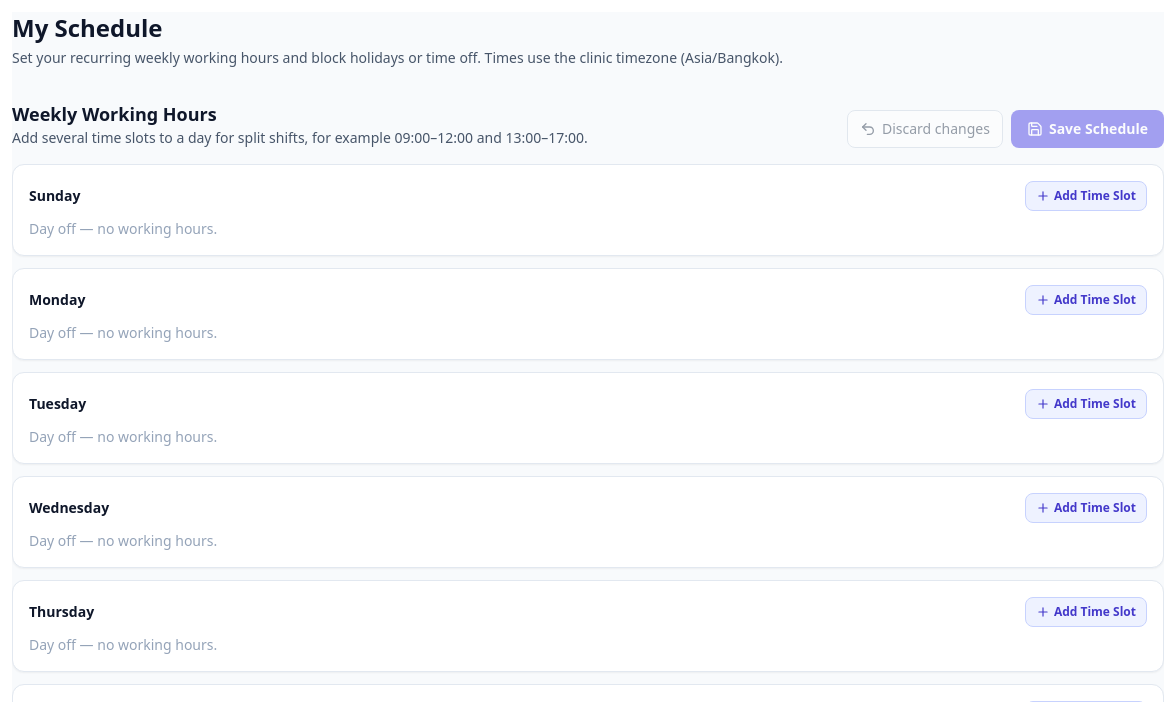
it: Weekly Recurring Schedule Editor (/doctor/schedule) › a server 422 INVALID_SCHEDULE_WINDOW shows a clear error banner and keeps the edits
Click the button with aria-label "Add time slot for Monday" at (1086, 300), box top-left (1025, 285), bottom-right (1147, 315)
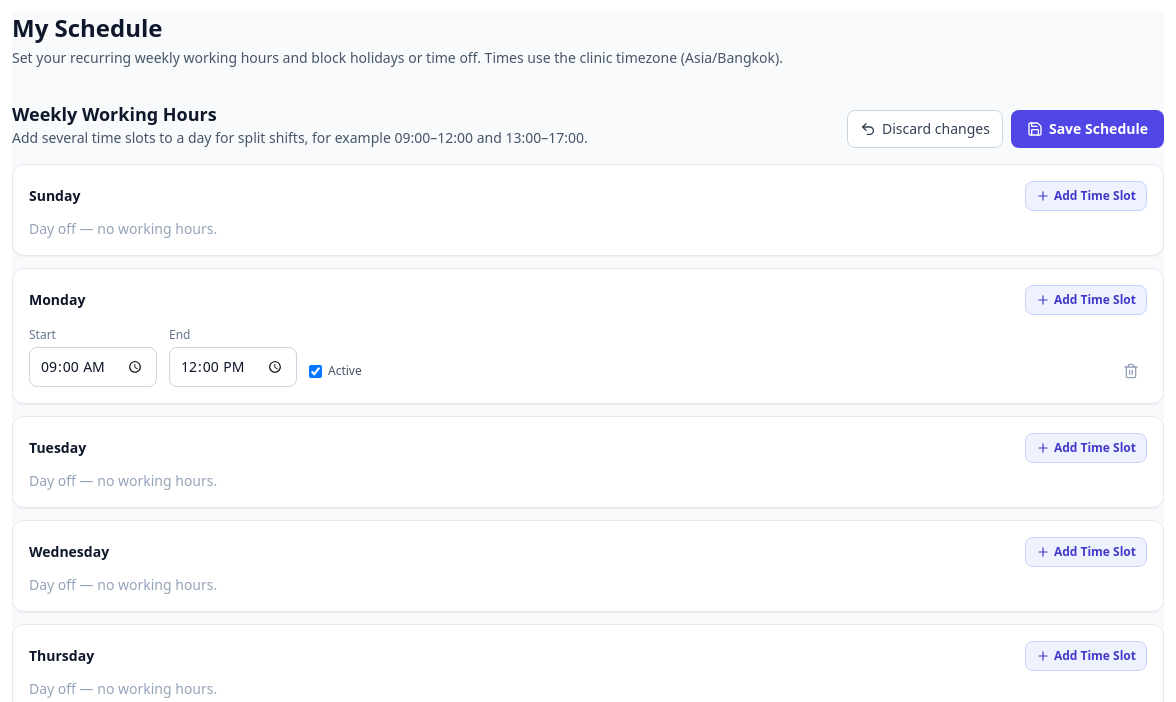
Click the button "Save Schedule" at (1088, 129), box top-left (1011, 110), bottom-right (1164, 148)
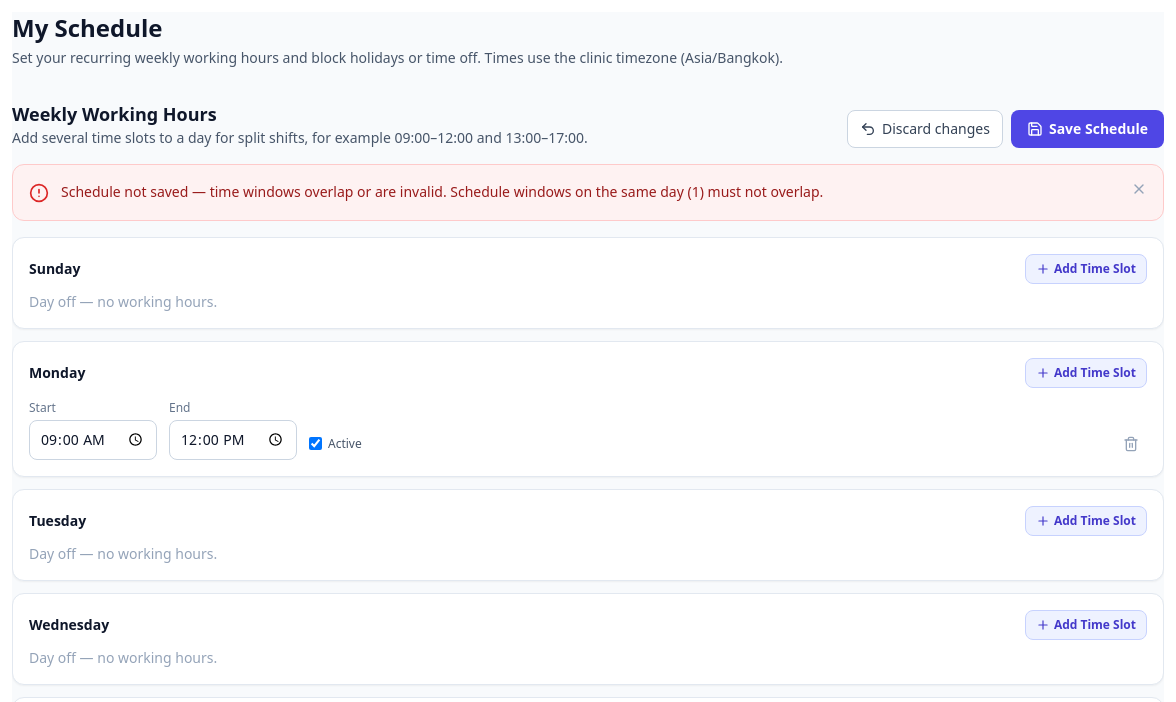
Now the time field named "Monday slot 1 start time" holds "09:00", box top-left (29, 420), bottom-right (157, 460)
Now the message shows "Schedule not saved", box top-left (61, 182), bottom-right (823, 201)
Now the message shows "must not overlap", box top-left (61, 182), bottom-right (823, 201)
